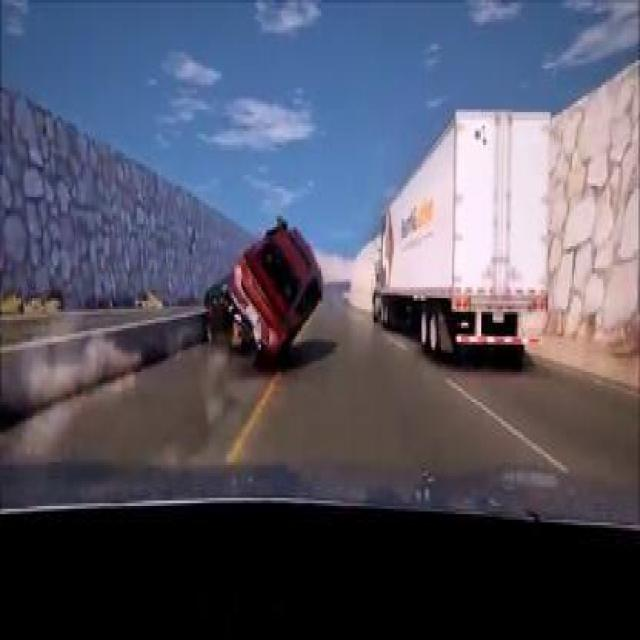accident: (202, 208, 324, 369)
